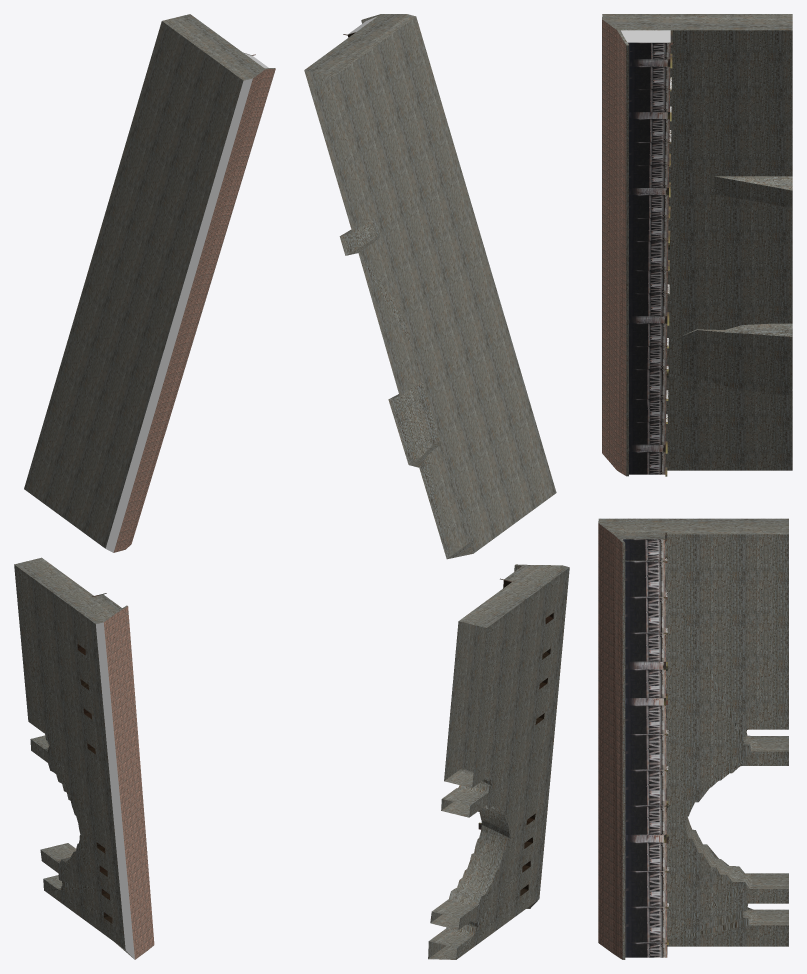
Rendered from myyr-origo.obj.
The picture shows the model from 3 angles, left to right: view 1: azimuth 30°, elevation 25°; view 2: azimuth 150°, elevation 25°; view 3: azimuth 270°, elevation 25°; orthographic projection. The views are drawn at different scales.
Parts seen in each view (by area): view 1: Suur_Kloostri_myyr; view 2: Suur_Kloostri_myyr; view 3: Suur_Kloostri_myyr.
Part boxes in pixels (x1=…): Suur_Kloostri_myyr: x1=14, y1=14, x2=275, y2=959; Suur_Kloostri_myyr: x1=304, y1=14, x2=569, y2=959; Suur_Kloostri_myyr: x1=598, y1=14, x2=792, y2=959.
Bounding box in the file's own units: 16.88 × 71.5 × 12.7.
